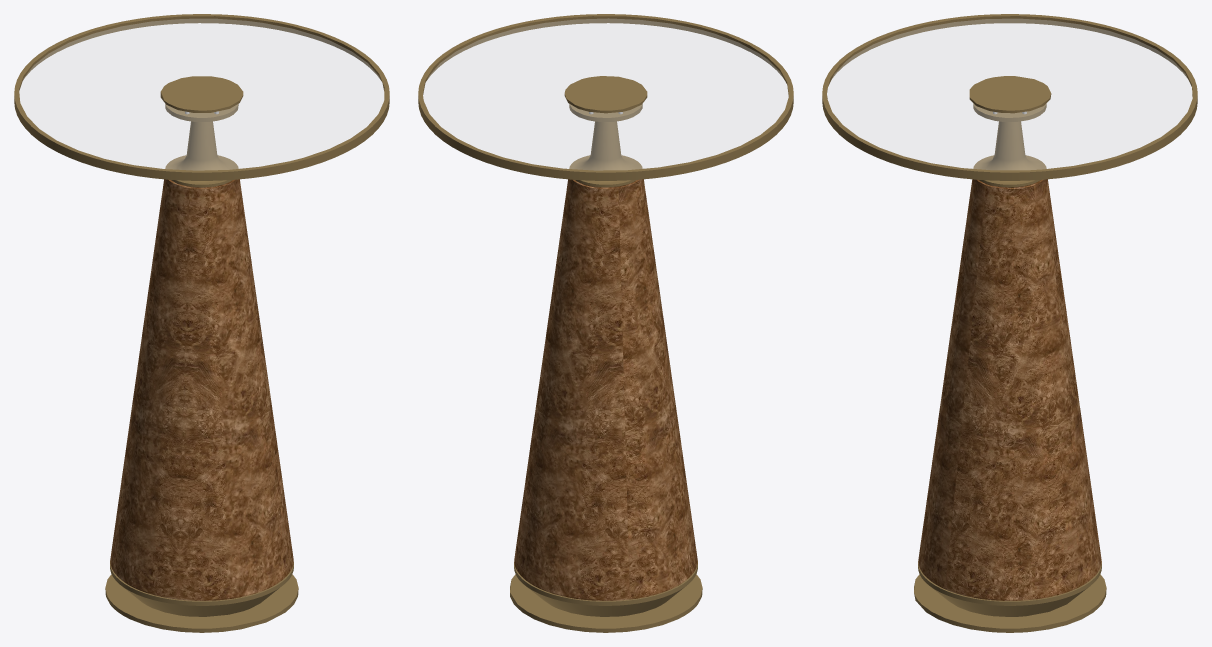
File: side_table_glass.glb
The picture shows the model from 3 angles, left to right: view 1: azimuth 30°, elevation 25°; view 2: azimuth 150°, elevation 25°; view 3: azimuth 270°, elevation 25°; orthographic projection.
Visible parts, largest first — view 1: Object_12, Object_4, Object_6, Object_13; view 2: Object_12, Object_4, Object_6, Object_13; view 3: Object_12, Object_4, Object_6, Object_13.
Part boxes in pixels (x1,y1,x2,y2): Object_12: (110, 179, 293, 600); Object_4: (19, 19, 383, 170); Object_6: (14, 14, 389, 180); Object_13: (105, 104, 298, 632); Object_12: (514, 179, 697, 600); Object_4: (423, 18, 788, 170); Object_6: (418, 14, 793, 180); Object_13: (510, 104, 702, 632); Object_12: (918, 179, 1101, 600); Object_4: (827, 19, 1192, 169); Object_6: (822, 14, 1197, 180); Object_13: (914, 103, 1106, 632).
Size of the model in its own units: 0.2073 by 0.3063 by 0.2073.
8 materials, 4 textured.
